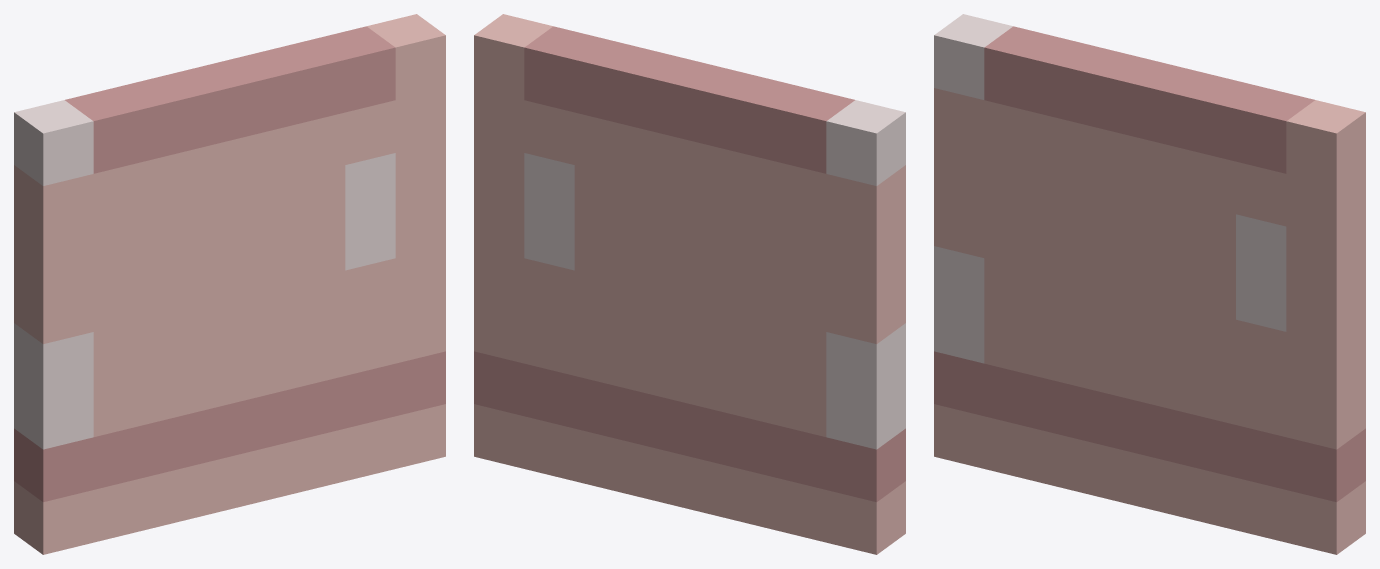
File: Cherry Door.glb
The picture shows the model from 3 angles, left to right: view 1: azimuth 30°, elevation 25°; view 2: azimuth 150°, elevation 25°; view 3: azimuth 330°, elevation 25°; orthographic projection.
Visible parts, largest first — view 1: generated(Clone); view 2: generated(Clone); view 3: generated(Clone).
Part boxes in pixels (<box>): generated(Clone): <box>14,14,445,554</box>; generated(Clone): <box>474,14,905,554</box>; generated(Clone): <box>934,14,1365,554</box>.
Bounding box in the file's own units: 8 × 8 × 1.
1 material, 1 textured.
